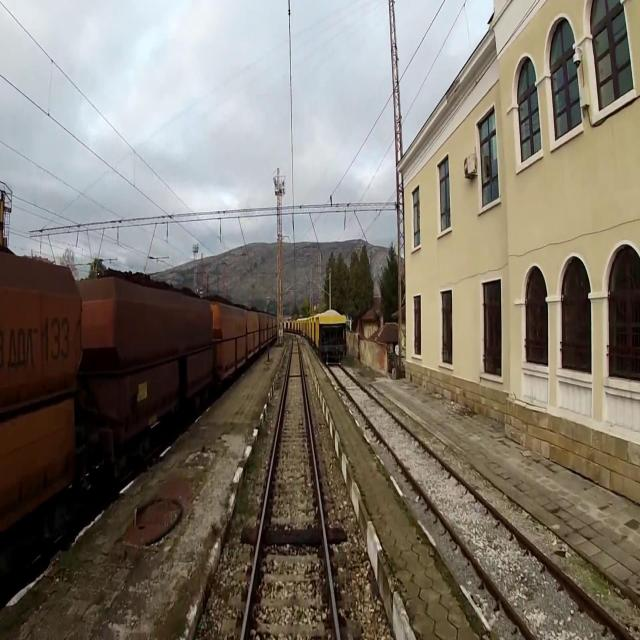rail-track: (244, 338, 336, 639)
